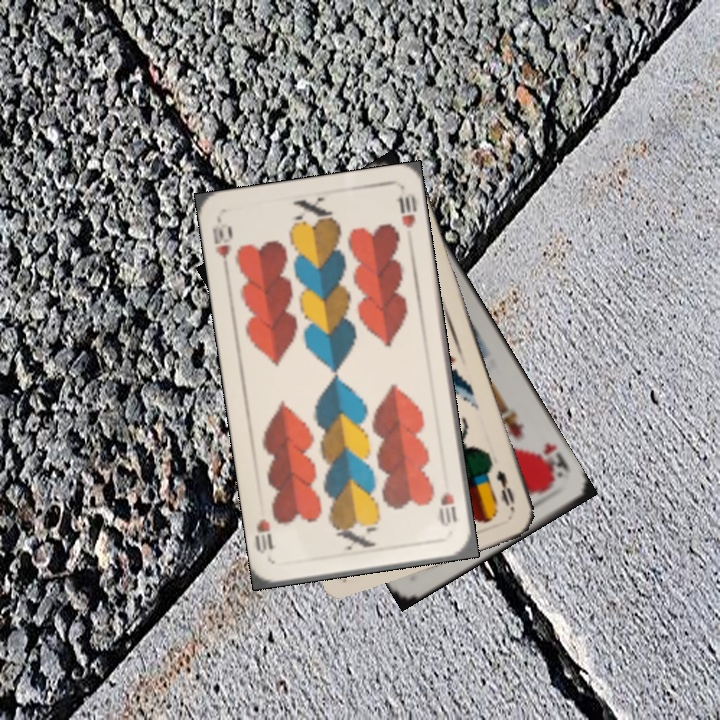EO: (492, 466, 517, 515)
H10: (208, 221, 235, 261), (436, 488, 460, 529)
HK: (533, 439, 573, 484)
